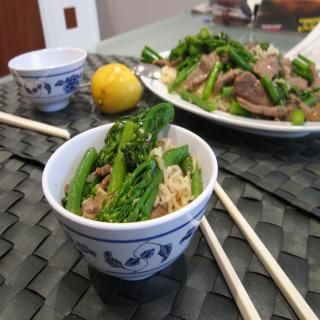Lemon: (90, 61, 144, 112)
